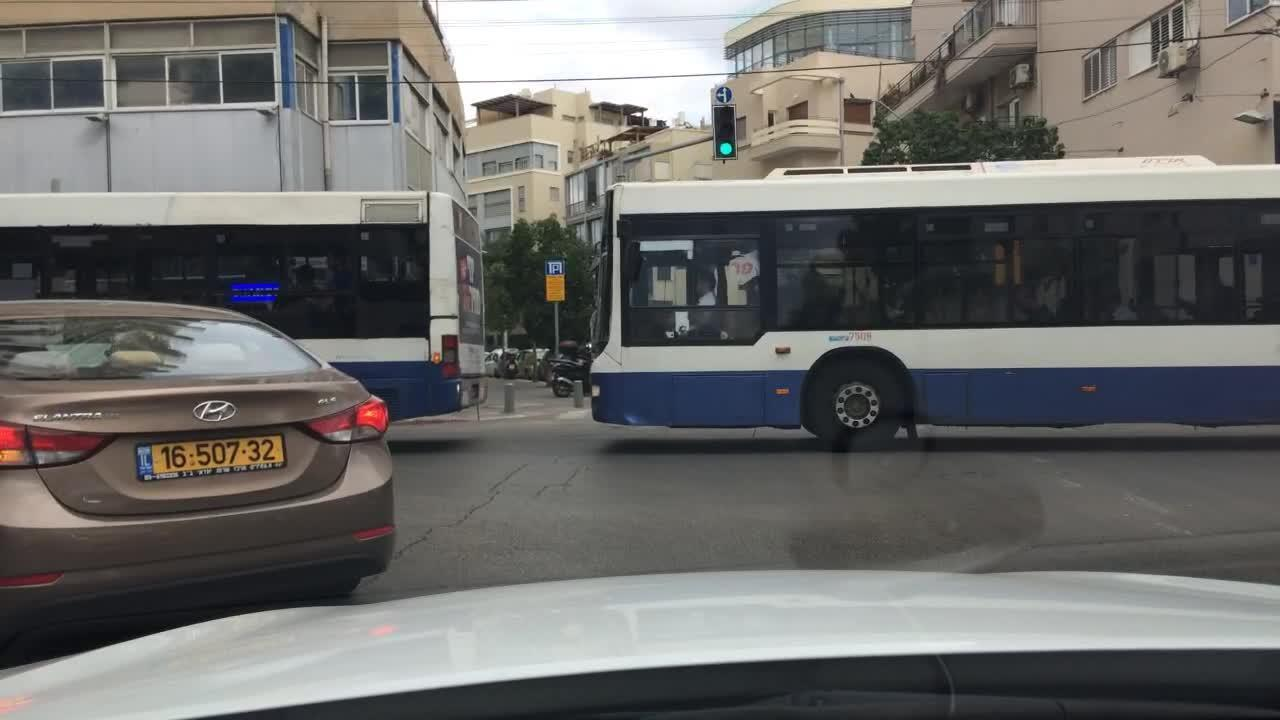Hyundai: (188, 396, 250, 428)
